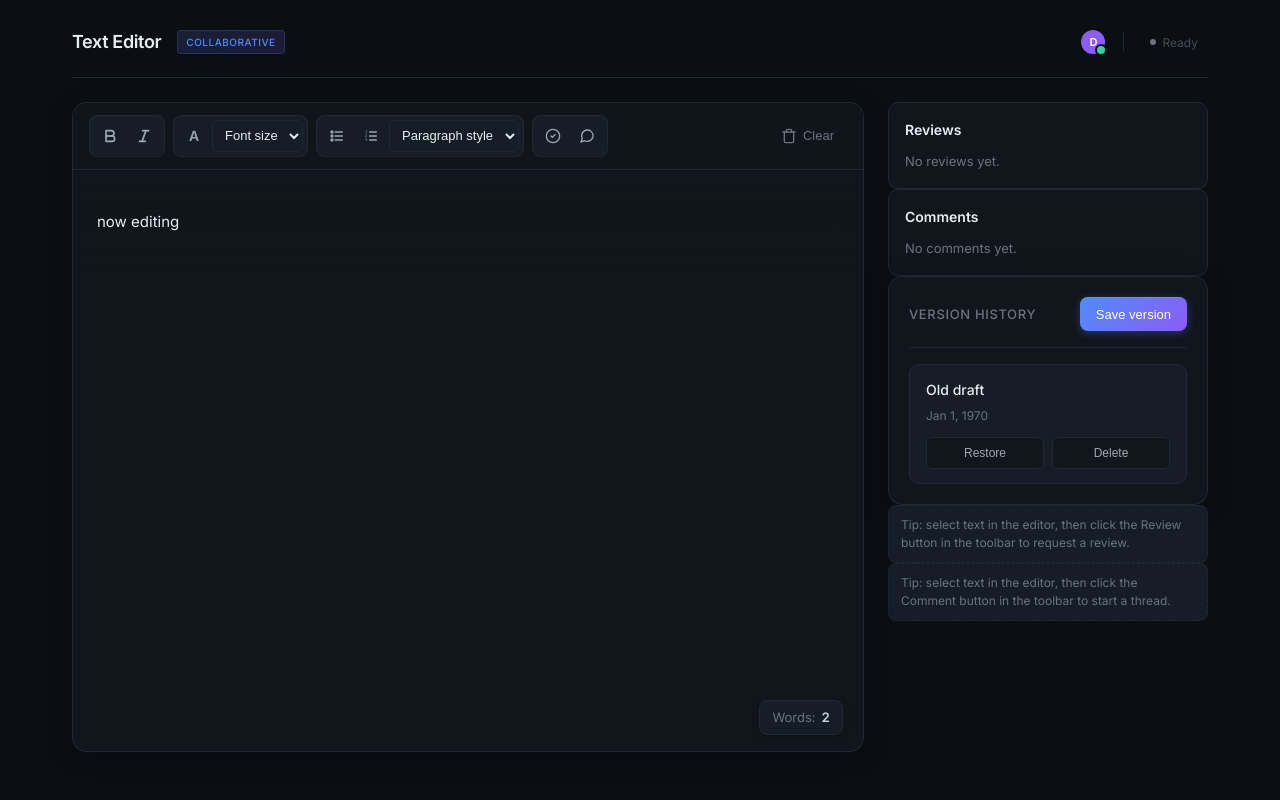
Test case: App — Requirement 7: version history end-to-end › restores a saved version into the editor
Expected: the field named "Text Editor" reads "now editing", left=97, top=212, right=179, bottom=231
Click the button "Restore". click: point(985, 453)
box: left=926, top=437, right=1044, bottom=469
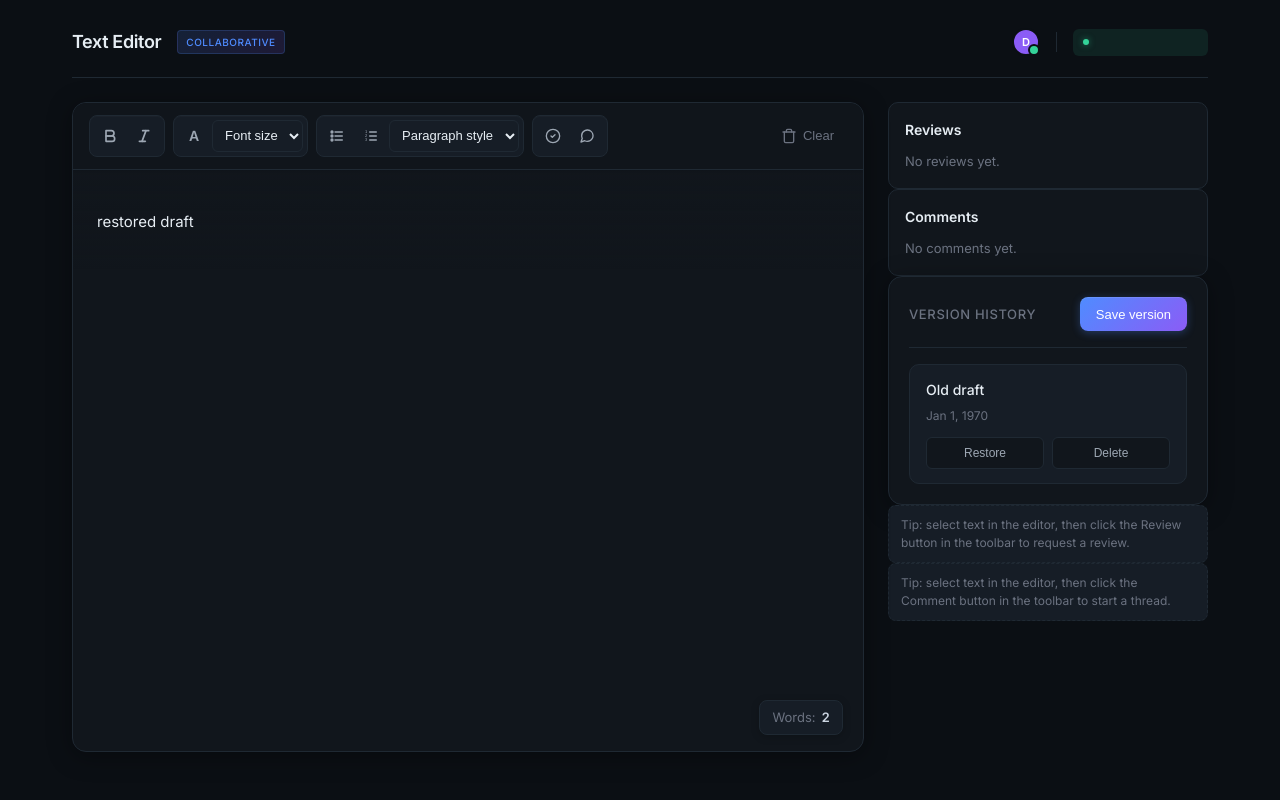
Now the field named "Text Editor" reads "restored draft", box left=97, top=212, right=194, bottom=231
